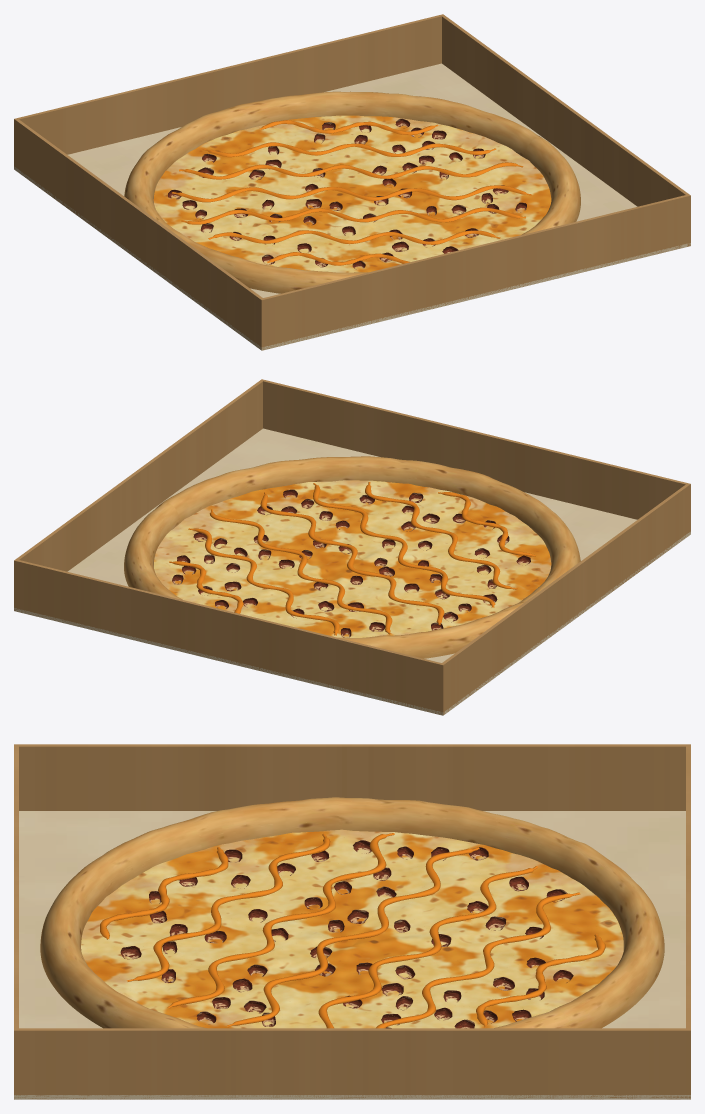
File: pizza-caixa-bacon-cheddar.glb
3 views of the same model, one above another, from view 1: azimuth 30°, elevation 25°; view 2: azimuth 150°, elevation 25°; view 3: azimuth 270°, elevation 25° (orthographic). The views are drawn at different scales.
Parts seen in each view (by area): view 1: pizza-caixa-bacon-cheddar; view 2: pizza-caixa-bacon-cheddar; view 3: pizza-caixa-bacon-cheddar.
Part boxes in pixels (left/top/right/bottom): pizza-caixa-bacon-cheddar: left=14, top=14, right=690, bottom=350; pizza-caixa-bacon-cheddar: left=14, top=379, right=690, bottom=715; pizza-caixa-bacon-cheddar: left=14, top=744, right=690, bottom=1099.
Bounding box in the file's own units: 0.4 × 0.045 × 0.4.
6 materials, 5 textured.
